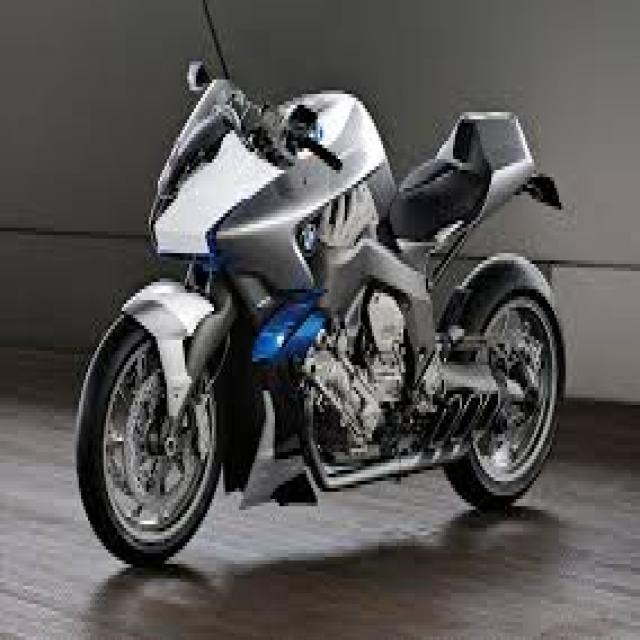MOTORCYCLE: (80, 95, 570, 562)
